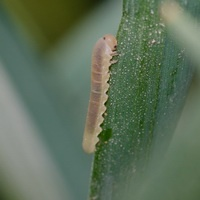insect: (82, 34, 116, 152)
